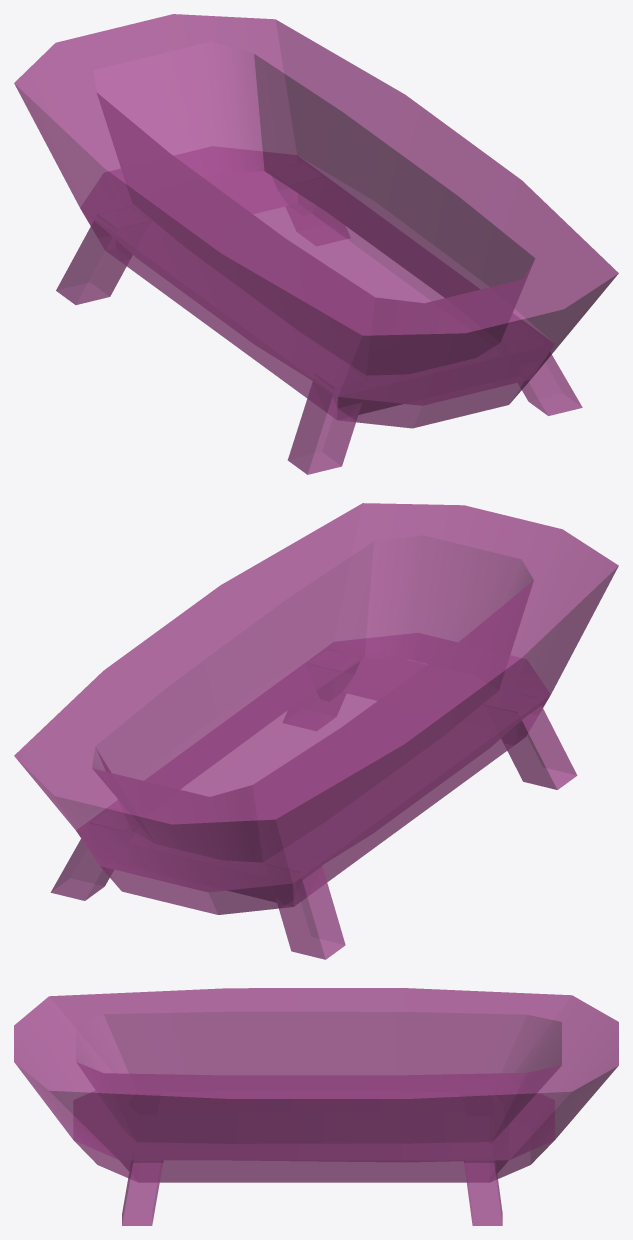
File: SM_Prop_Bath_01_Collision.fbx
3 views of the same model, one above another, from view 1: azimuth 30°, elevation 25°; view 2: azimuth 150°, elevation 25°; view 3: azimuth 270°, elevation 25° (orthographic). The views are drawn at different scales.
Parts seen in each view (by area): view 1: SM_Prop_Bath_01_Collision; view 2: SM_Prop_Bath_01_Collision; view 3: SM_Prop_Bath_01_Collision.
Boxes of the visible parts, x1,y1,x2,y2 form: SM_Prop_Bath_01_Collision: (14, 14, 618, 474); SM_Prop_Bath_01_Collision: (14, 503, 618, 959); SM_Prop_Bath_01_Collision: (14, 988, 618, 1225).
Bounding box in the file's own units: 105 × 57.48 × 241.
